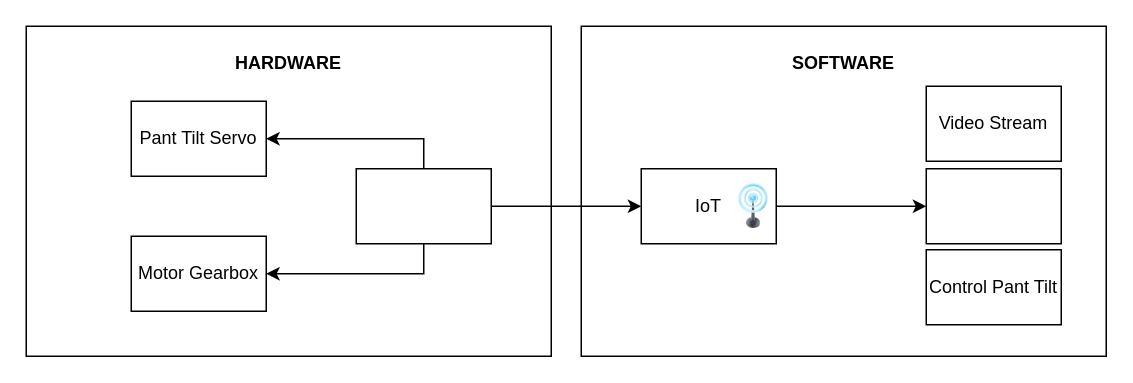
Image size: 1133x383. Some labels were removed from this diagram. The shapes that lost their labels are listed below. From the top down, each one's centre as x and y in pixels, then its label:
the point at 423,205: ESP32 - Cam
the point at 993,205: Kontrol Robot
